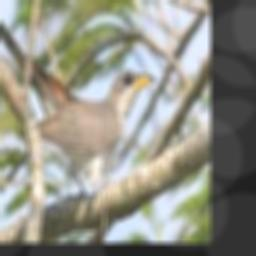Cuckoo: (0, 0, 156, 198)
